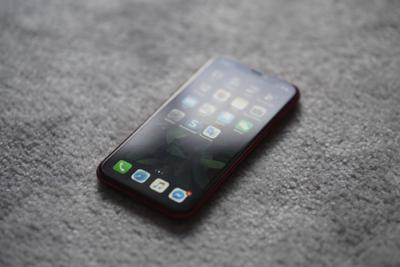Mobile Phone: (95, 53, 300, 220)
